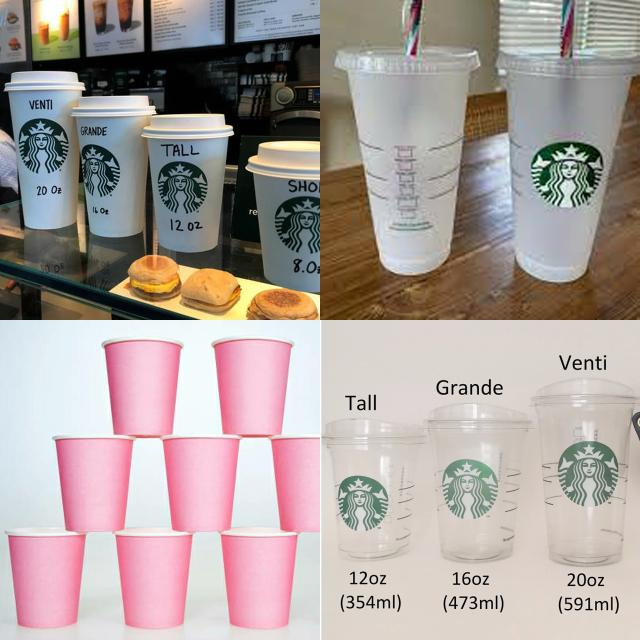Single-Use-Plastic: (335, 0, 480, 275), (499, 0, 638, 282), (531, 378, 639, 565), (428, 405, 531, 561), (322, 419, 425, 559), (142, 114, 234, 252), (5, 72, 85, 229), (72, 95, 155, 237), (246, 141, 320, 291), (211, 336, 294, 438), (102, 338, 184, 438), (52, 435, 135, 532), (7, 528, 85, 628), (221, 528, 298, 629), (161, 435, 241, 531), (116, 528, 192, 628), (269, 435, 321, 532)
